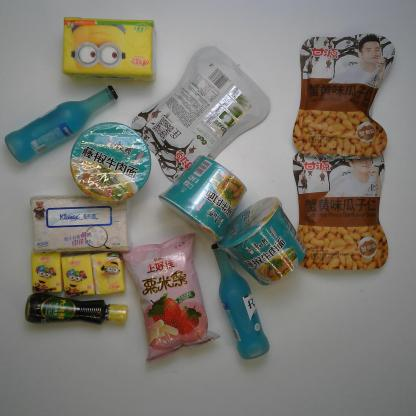Alcohol: (2, 83, 120, 166), (206, 238, 273, 363)
Dried Fruit: (128, 43, 272, 187), (292, 30, 398, 162), (289, 148, 392, 272)
Instant Noodles: (214, 193, 310, 290), (156, 152, 249, 245), (69, 121, 153, 204)
Puffed Food: (115, 229, 222, 366)
Seasoner: (22, 290, 131, 328)
Tissue: (25, 188, 135, 258), (60, 14, 159, 84), (88, 248, 129, 297), (58, 250, 98, 300), (28, 247, 67, 296)
